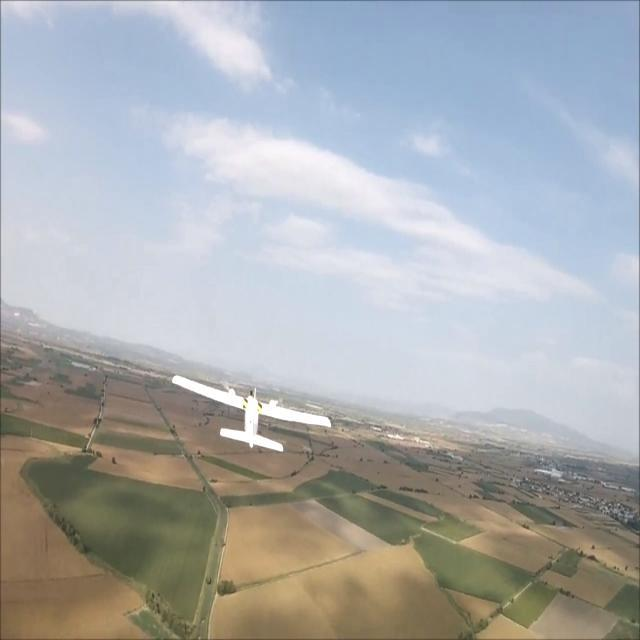iha: (172, 409, 332, 429)
